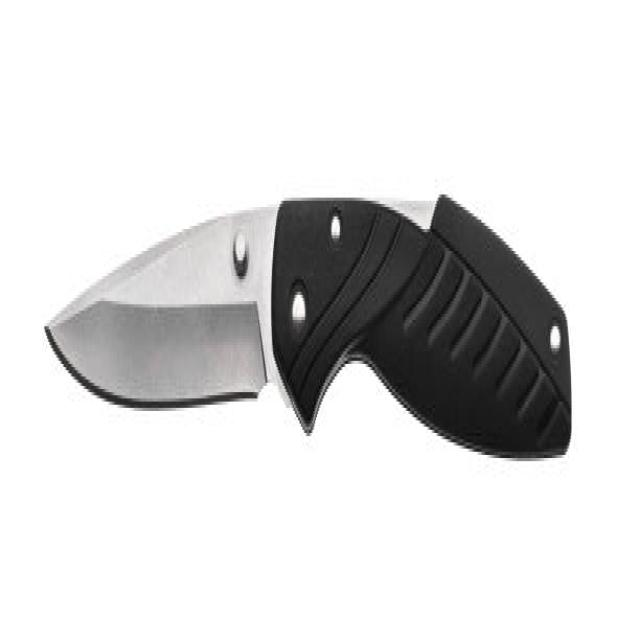knife: (41, 186, 578, 499)
